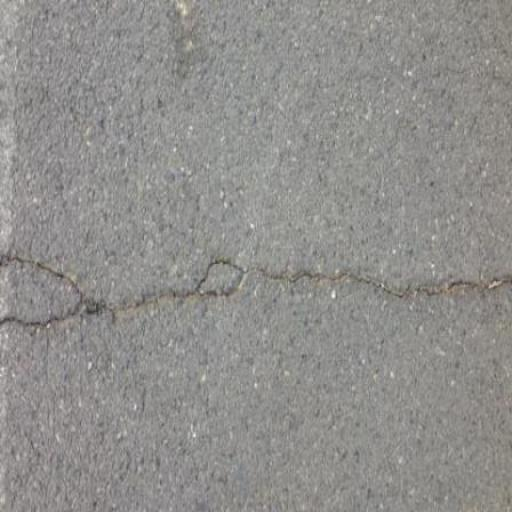spalling: (4, 243, 492, 340), (7, 232, 106, 305)
